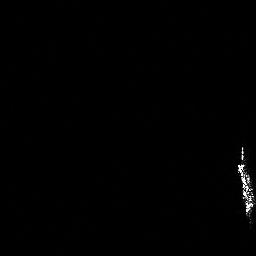ship: (234, 144, 256, 225)
